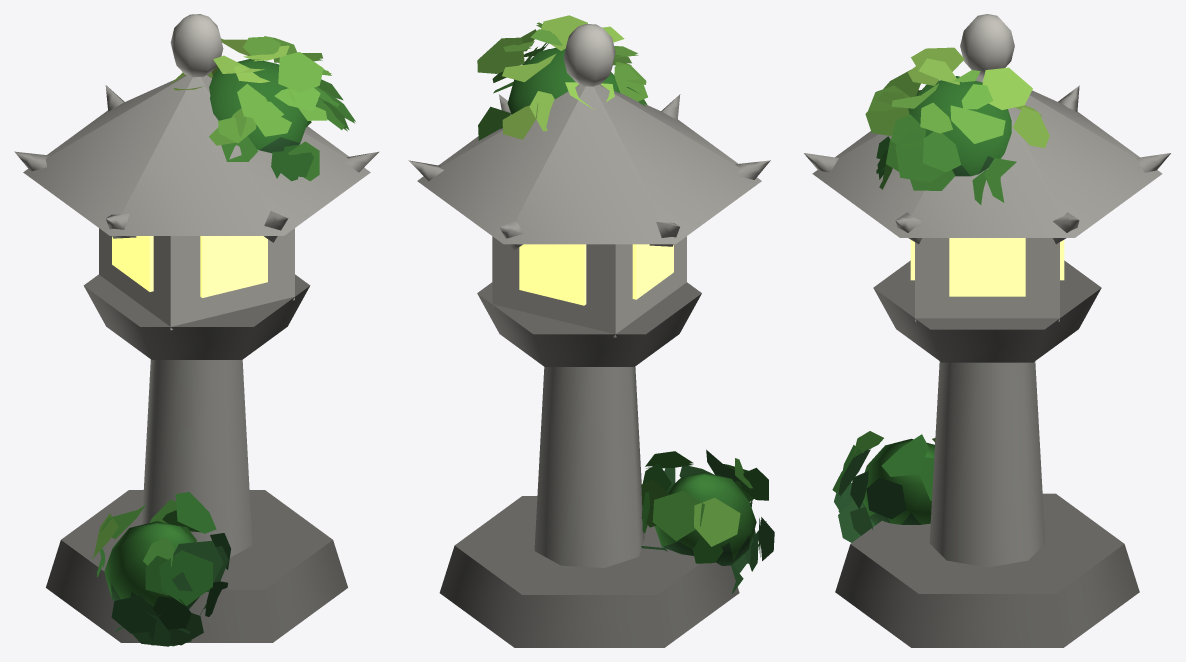
The model's file is StoneLantern.glb.
3 views of the same model, side by side, from view 1: azimuth 30°, elevation 25°; view 2: azimuth 150°, elevation 25°; view 3: azimuth 270°, elevation 25° (orthographic).
Visible parts, largest first — view 1: Body, Rustle, Lamp; view 2: Body, Rustle, Lamp; view 3: Body, Rustle, Lamp.
Boxes of the visible parts, bbox=[...] form: Body: bbox=[14, 14, 379, 642]; Rustle: bbox=[91, 36, 355, 646]; Lamp: bbox=[112, 236, 267, 297]; Body: bbox=[408, 24, 770, 647]; Rustle: bbox=[477, 15, 774, 593]; Lamp: bbox=[519, 244, 673, 305]; Body: bbox=[804, 14, 1170, 647]; Rustle: bbox=[832, 47, 1049, 542]; Lamp: bbox=[910, 238, 1064, 296].
Bounding box in the file's own units: 2.09 × 4.23 × 2.42.
Materials: 3 (2 with a texture image).
